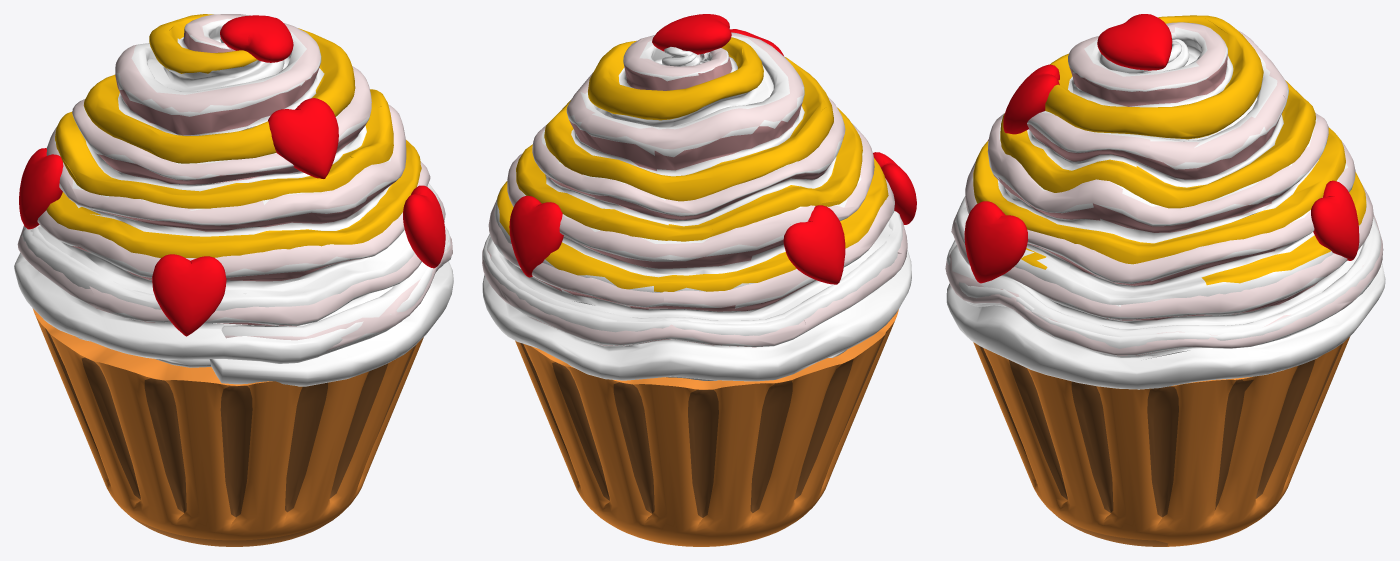
File: Cupcake.fbx
The picture shows the model from 3 angles, left to right: view 1: azimuth 30°, elevation 25°; view 2: azimuth 150°, elevation 25°; view 3: azimuth 270°, elevation 25°; orthographic projection. The views are drawn at different scales.
Visible parts, largest first — view 1: Object049; view 2: Object049; view 3: Object049.
Part boxes in pixels (x1,y1,x2,y2): Object049: [14, 14, 453, 546]; Object049: [482, 14, 916, 546]; Object049: [945, 14, 1385, 546].
Bounding box in the file's own units: 174 × 175 × 221.
Materials: 1 (1 with a texture image).
